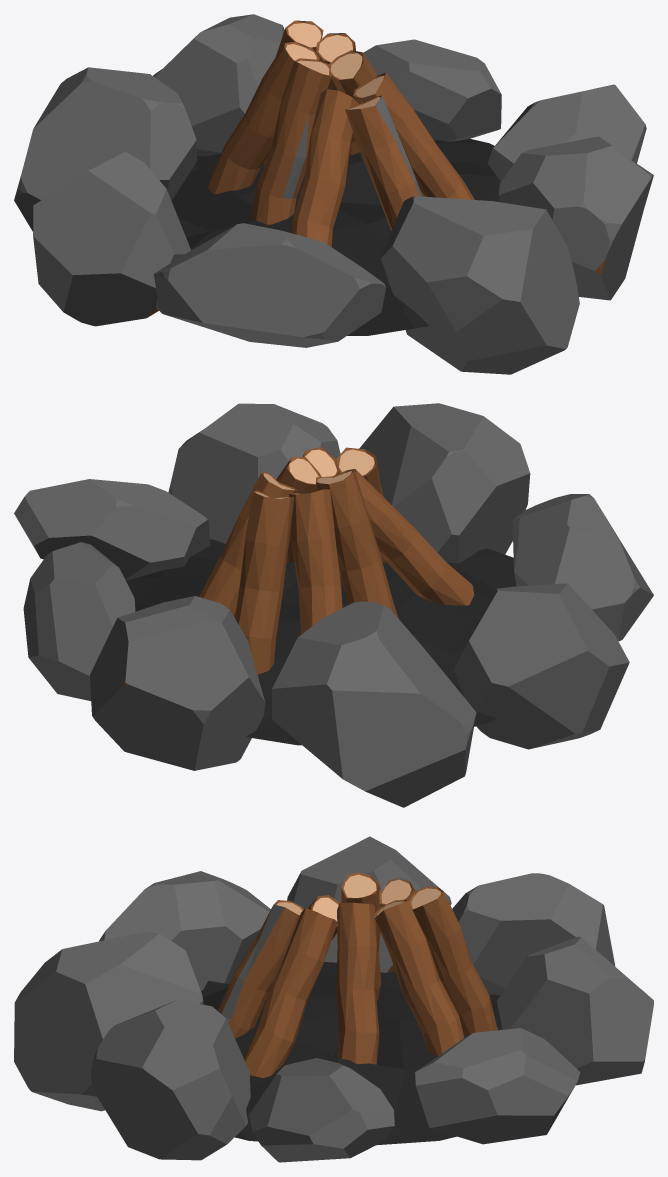
The model's file is BetterLowPolyCampFire.fbx.
3 views of the same model, one above another, from view 1: azimuth 30°, elevation 25°; view 2: azimuth 150°, elevation 25°; view 3: azimuth 270°, elevation 25° (orthographic). The views are drawn at different scales.
Visible parts, largest first — view 1: Cylinder; view 2: Cylinder; view 3: Cylinder.
Part boxes in pixels (x1,y1,x2,y2): Cylinder: (14, 14, 653, 374); Cylinder: (14, 403, 653, 807); Cylinder: (14, 836, 653, 1162).
Bounding box in the file's own units: 750 × 268 × 746.
